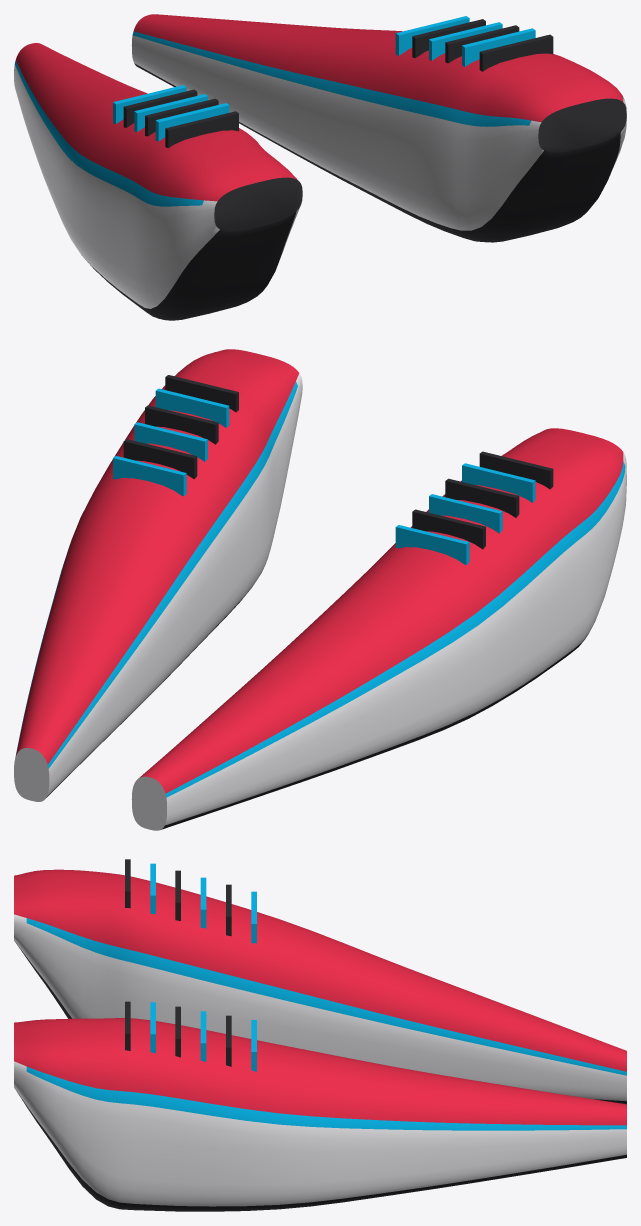
Rendered from gills.glb.
3 views of the same model, one above another, from view 1: azimuth 30°, elevation 25°; view 2: azimuth 150°, elevation 25°; view 3: azimuth 270°, elevation 25° (orthographic). The views are drawn at different scales.
Visible parts, largest first — view 1: Sidepods_gills; view 2: Sidepods_gills; view 3: Sidepods_gills.
Part boxes in pixels (x1,y1,x2,y2): Sidepods_gills: (14,14,626,320); Sidepods_gills: (14,349,626,830); Sidepods_gills: (14,859,626,1211).
Bounding box in the file's own units: 1.53 × 0.6363 × 1.94.
